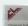ChemLab: (6, 7, 23, 21)
